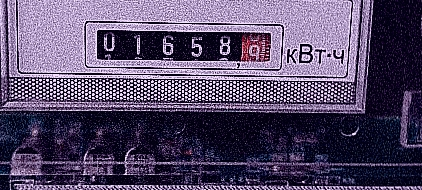0: (102, 30, 115, 52)
1: (132, 33, 142, 55)
5: (189, 34, 203, 57)
6: (160, 33, 174, 55)
8: (217, 33, 231, 55)
9: (245, 42, 259, 64)
screen: (78, 15, 290, 76)
